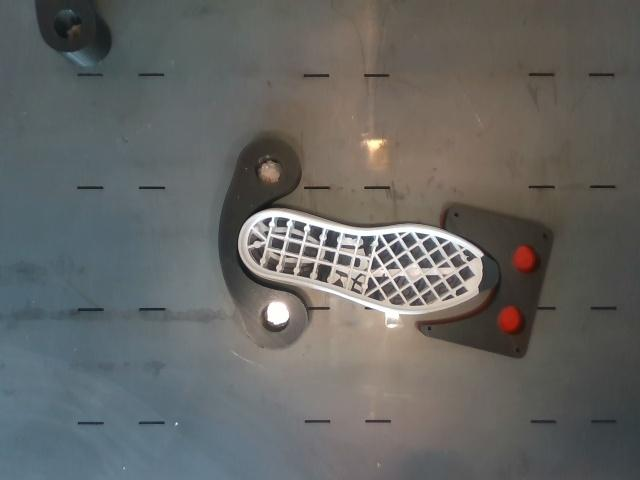shoes: (240, 210, 498, 311)
